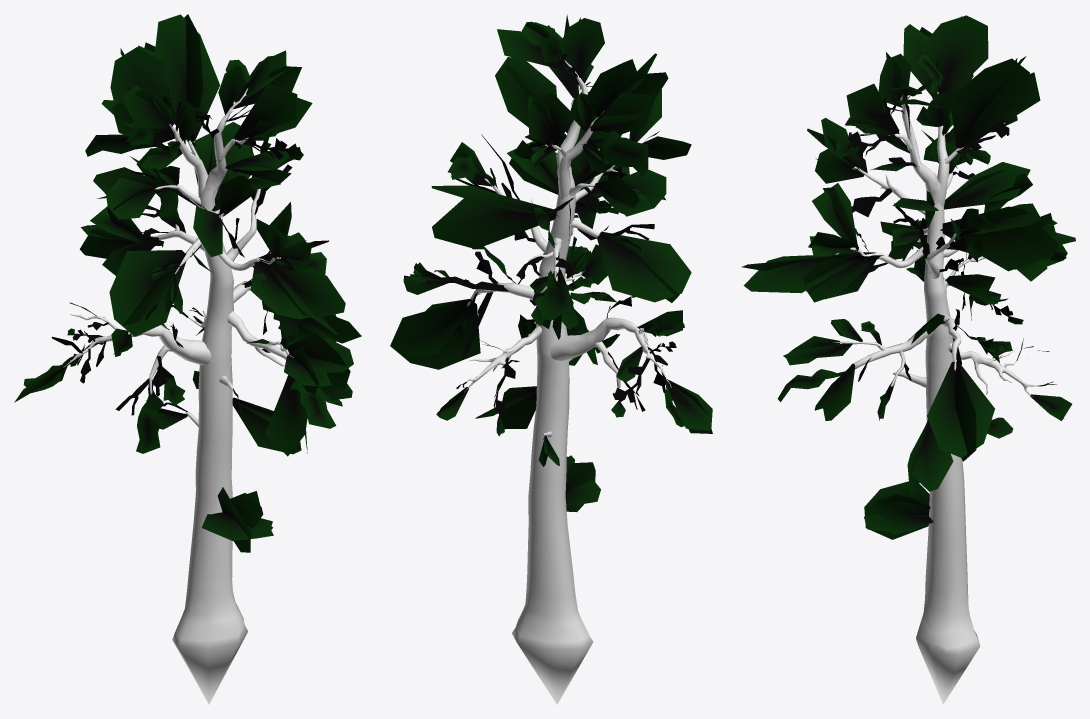
Rendered from WhitebarkPineRHEP_E.fbx.
3 renders of one model, left to right at view 1: azimuth 30°, elevation 25°; view 2: azimuth 150°, elevation 25°; view 3: azimuth 270°, elevation 25°, orthographic. The views are drawn at different scales.
Visible parts, largest first — view 1: WBPRHEPLeavesE_LOD0, WBPRHEPBarkE_LOD0; view 2: WBPRHEPLeavesE_LOD0, WBPRHEPBarkE_LOD0; view 3: WBPRHEPLeavesE_LOD0, WBPRHEPBarkE_LOD0.
Boxes of the visible parts, x1,y1,x2,y2 form: WBPRHEPLeavesE_LOD0: [14, 14, 361, 552]; WBPRHEPBarkE_LOD0: [63, 88, 293, 704]; WBPRHEPLeavesE_LOD0: [390, 14, 712, 511]; WBPRHEPBarkE_LOD0: [464, 58, 671, 704]; WBPRHEPLeavesE_LOD0: [741, 15, 1075, 539]; WBPRHEPBarkE_LOD0: [832, 92, 1037, 704].
Size of what is drawn, in the model's own units: 10.3 by 20.29 by 9.33.
